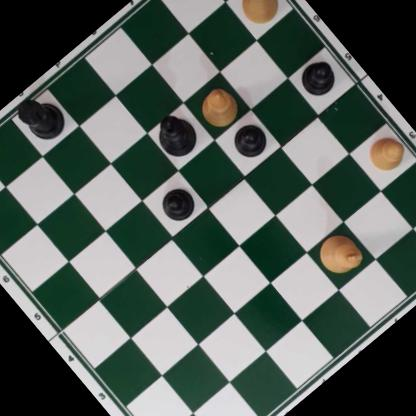black-king: (145, 105, 205, 165)
black-pawn: (292, 52, 343, 103), (153, 181, 202, 229), (226, 117, 273, 165)
black-rook: (11, 86, 73, 149)
white-bishop: (194, 82, 245, 134)
white-king: (309, 225, 367, 283)
white-pawn: (360, 129, 411, 180)
white-rook: (229, 0, 291, 31)
